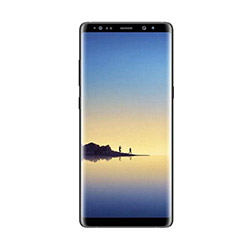Handphone: (77, 19, 177, 229)
